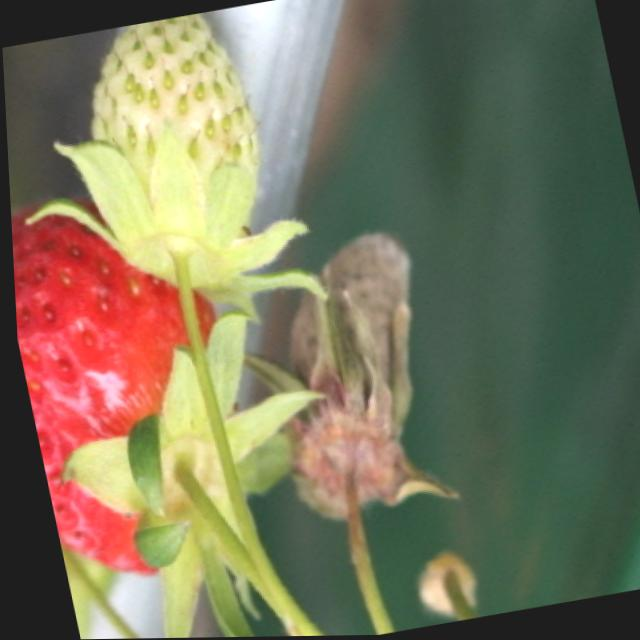Gray Mold: (237, 230, 455, 533)
